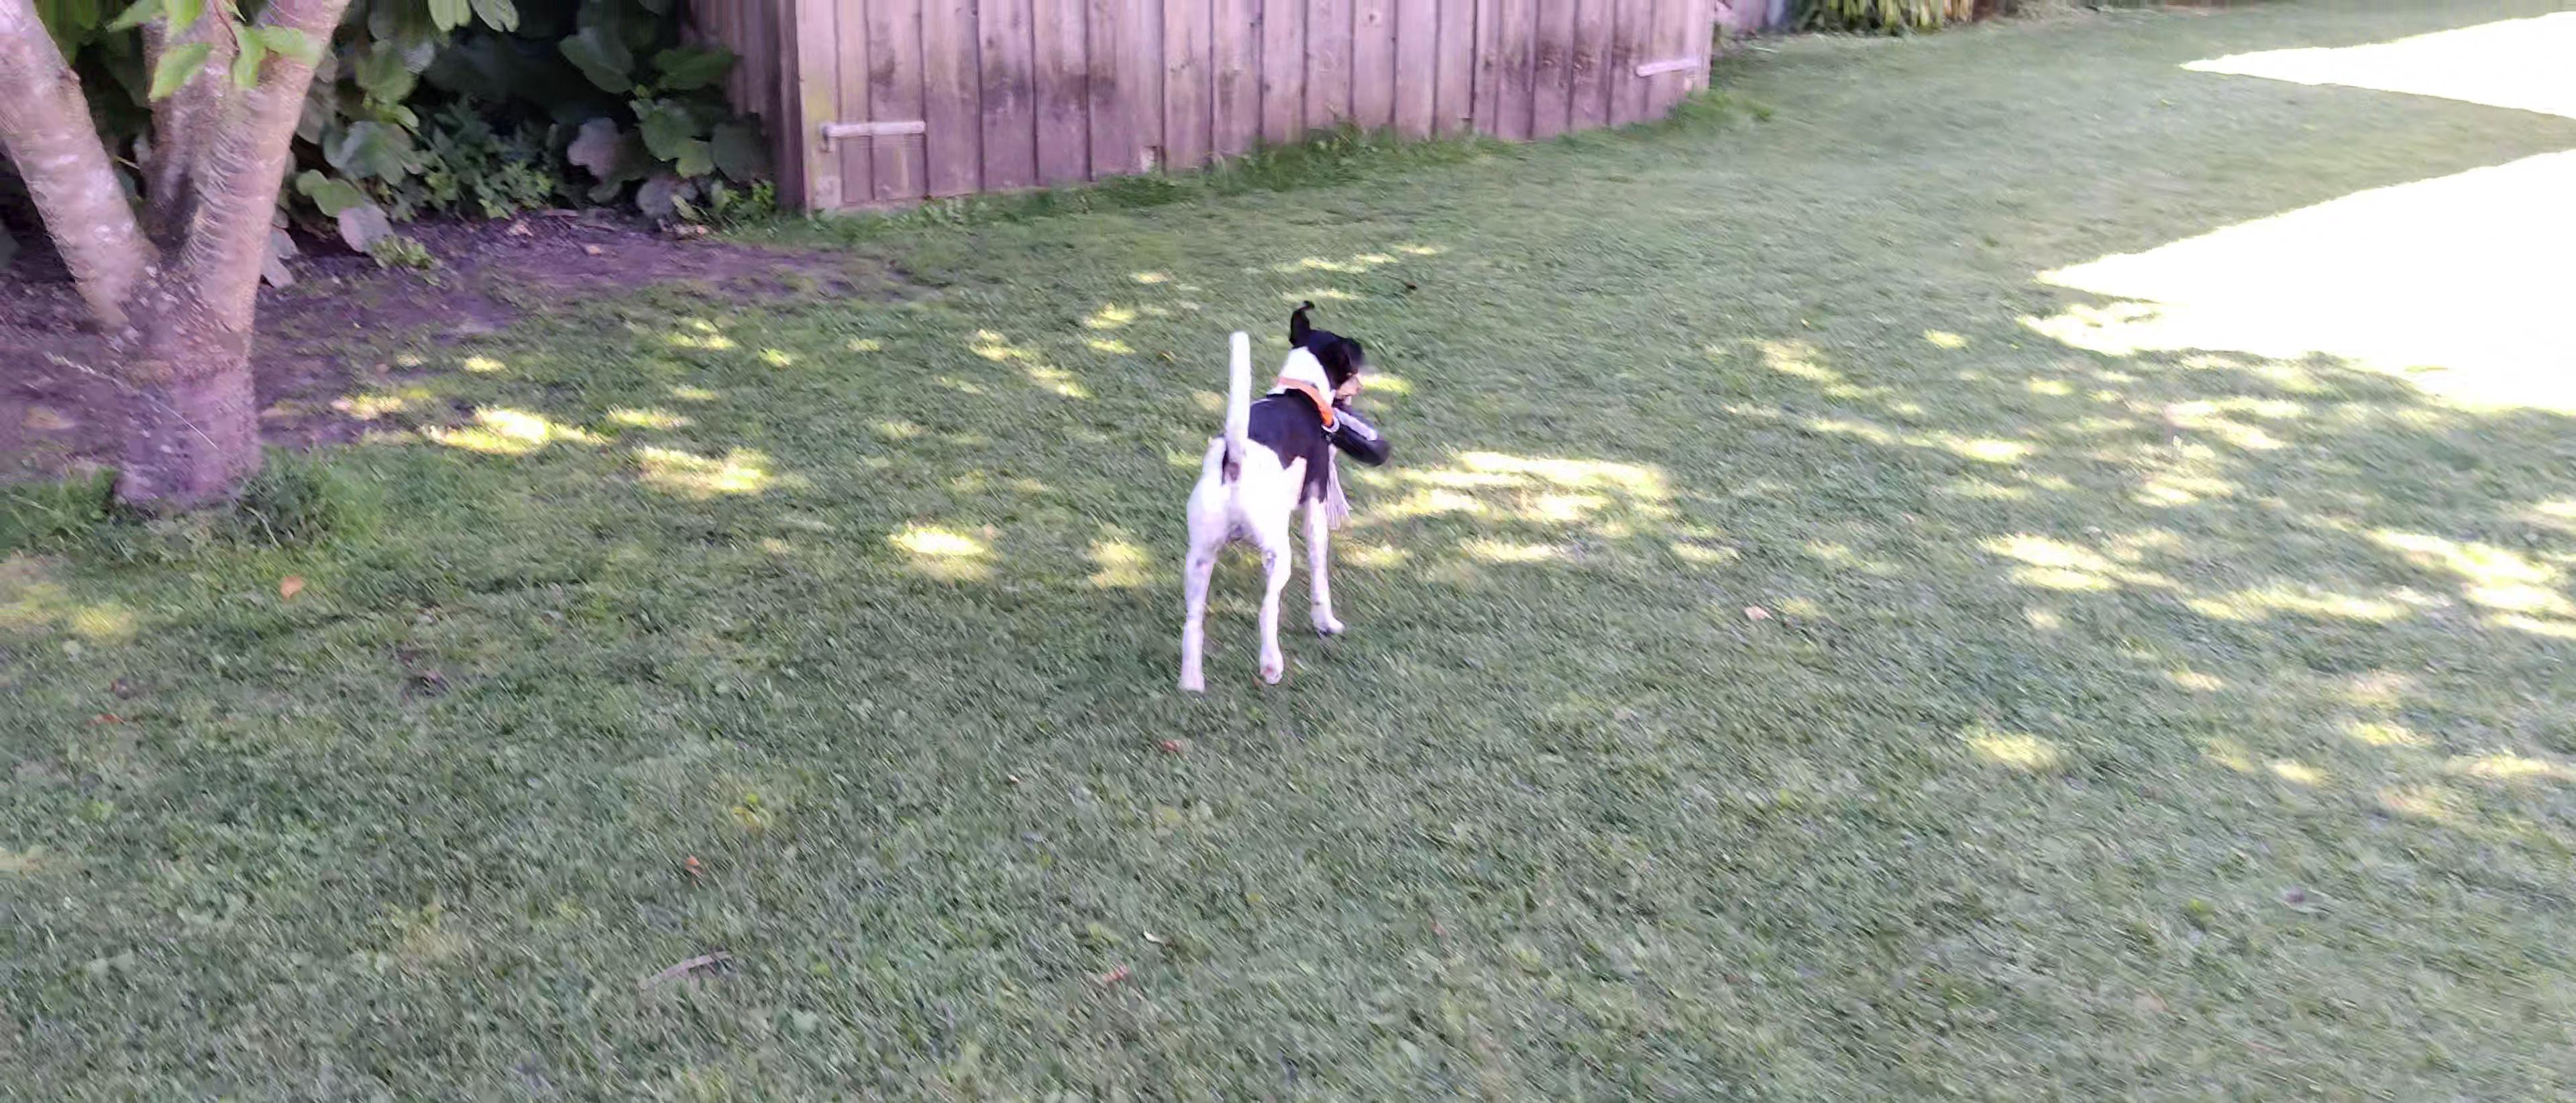Dog: (1171, 296, 1367, 695)
